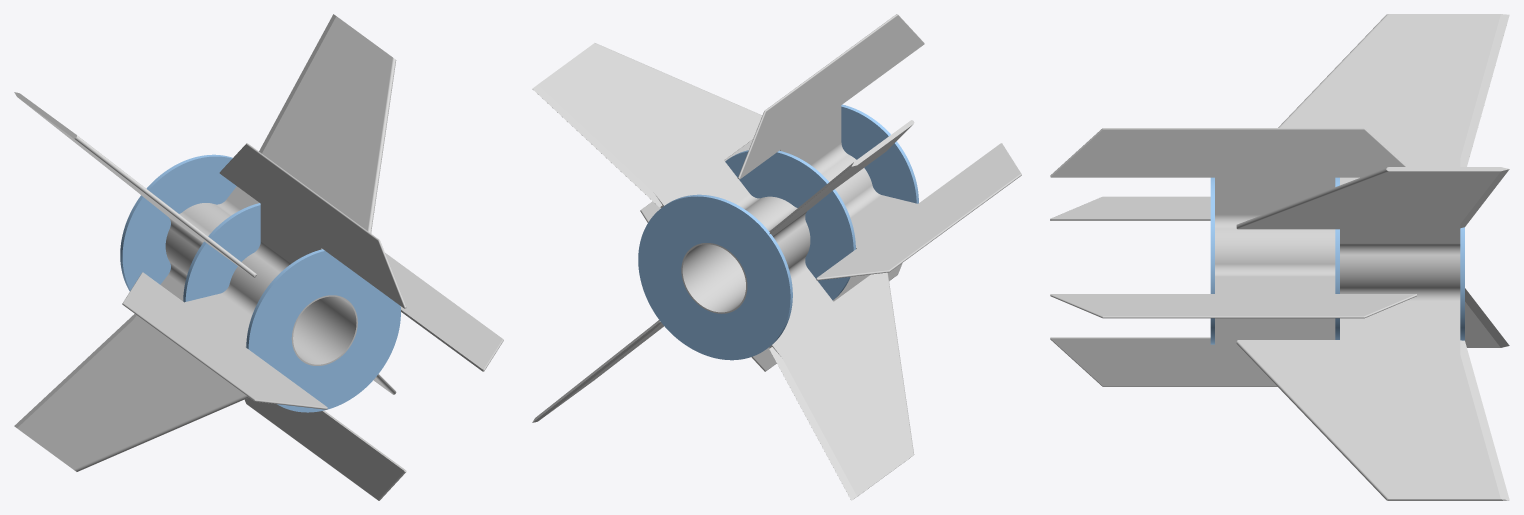
The model's file is motor h.gltf.
3 renders of one model, left to right at view 1: azimuth 30°, elevation 25°; view 2: azimuth 150°, elevation 25°; view 3: azimuth 270°, elevation 25°, orthographic.
Parts seen in each view (by area): view 1: motor_housing, upper_ring, lower_ring, mid_ring; view 2: motor_housing, lower_ring, mid_ring, upper_ring; view 3: motor_housing, upper_ring, lower_ring.
Part boxes in pixels (bbox=[...]): motor_housing: bbox=[14, 14, 503, 500]; upper_ring: bbox=[246, 249, 400, 412]; lower_ring: bbox=[120, 154, 236, 291]; mid_ring: bbox=[183, 203, 260, 302]; motor_housing: bbox=[532, 14, 1021, 500]; lower_ring: bbox=[638, 194, 792, 360]; mid_ring: bbox=[725, 150, 855, 300]; upper_ring: bbox=[841, 104, 918, 203]; motor_housing: bbox=[1050, 14, 1509, 500]; upper_ring: bbox=[1210, 177, 1214, 344]; lower_ring: bbox=[1460, 227, 1464, 340].
Bounding box in the file's own units: 0.478 × 0.478 × 0.596.
